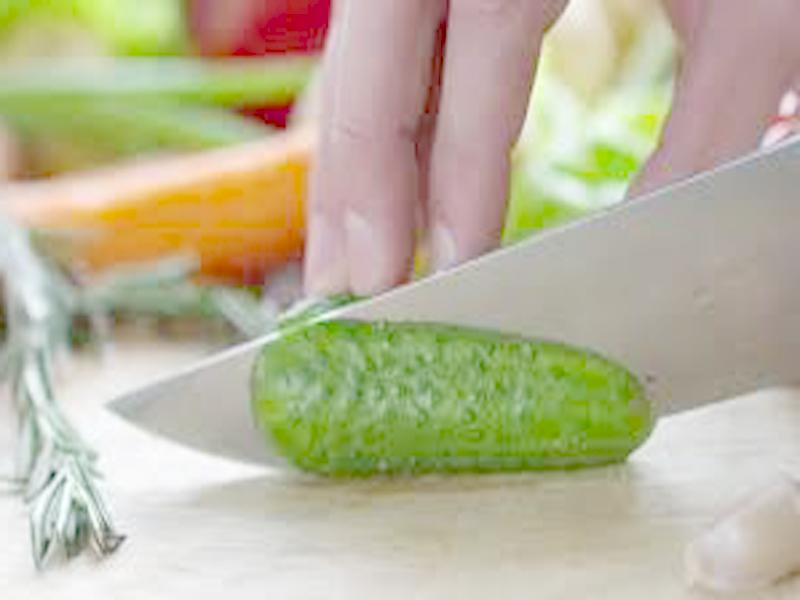Cucumber: (248, 318, 652, 482)
